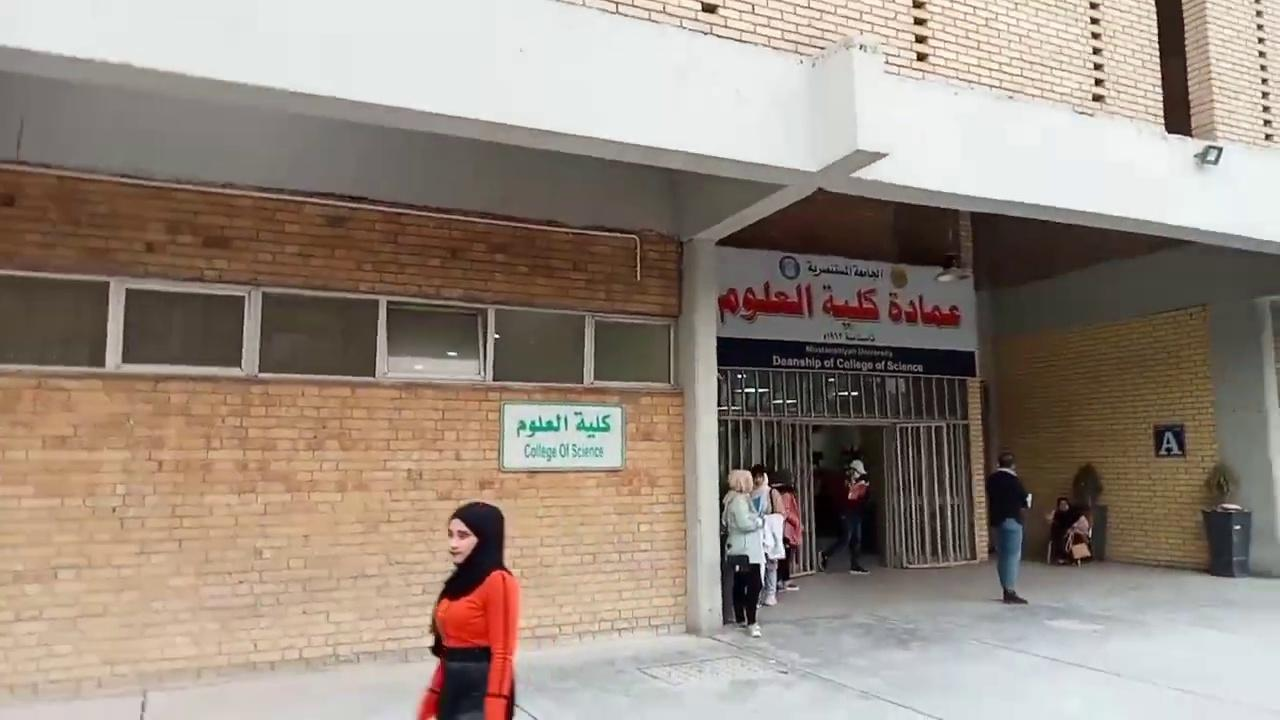person: (416, 501, 520, 719), (720, 468, 767, 638), (985, 451, 1031, 604), (817, 458, 871, 575), (748, 463, 786, 606), (768, 467, 802, 591), (1047, 496, 1075, 565)
